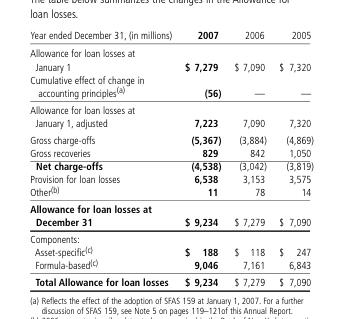table: (29, 28, 312, 287)
table column: (29, 28, 177, 287), (177, 28, 226, 287), (226, 28, 272, 287), (272, 28, 312, 287)
table column header: (29, 28, 312, 43)
table projected row header: (29, 230, 312, 244)
table row: (29, 199, 312, 230), (29, 100, 312, 130), (29, 43, 312, 72), (29, 72, 312, 100), (29, 257, 312, 273), (29, 28, 312, 43), (29, 130, 312, 145), (29, 184, 312, 199), (29, 230, 312, 244), (29, 273, 312, 287), (29, 145, 312, 158), (29, 158, 312, 171), (29, 171, 312, 184), (29, 244, 312, 257)
